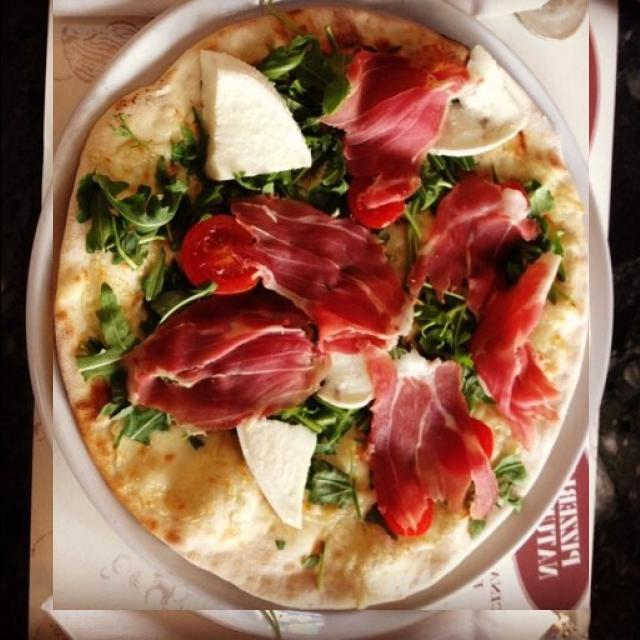pizza: (52, 0, 588, 610)
